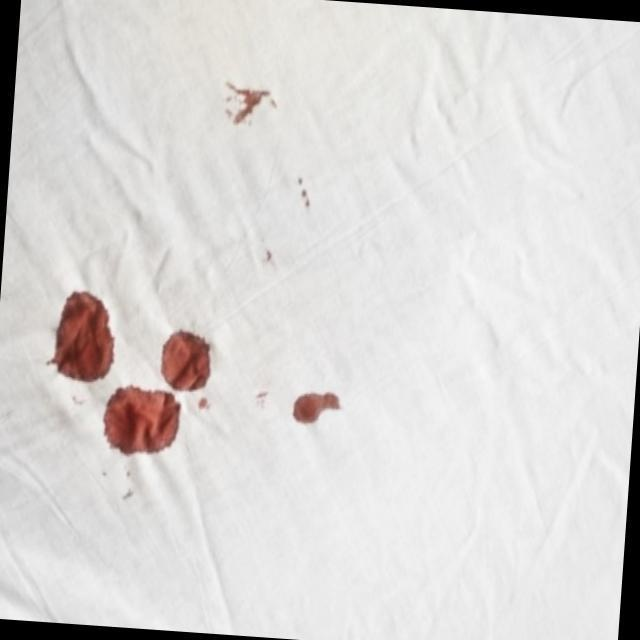blood: (47, 291, 115, 383), (104, 393, 178, 453), (161, 333, 211, 391), (292, 392, 342, 425)
